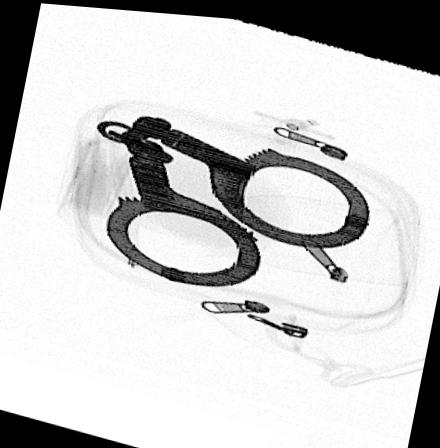HandCuffs: (95, 109, 371, 284)
